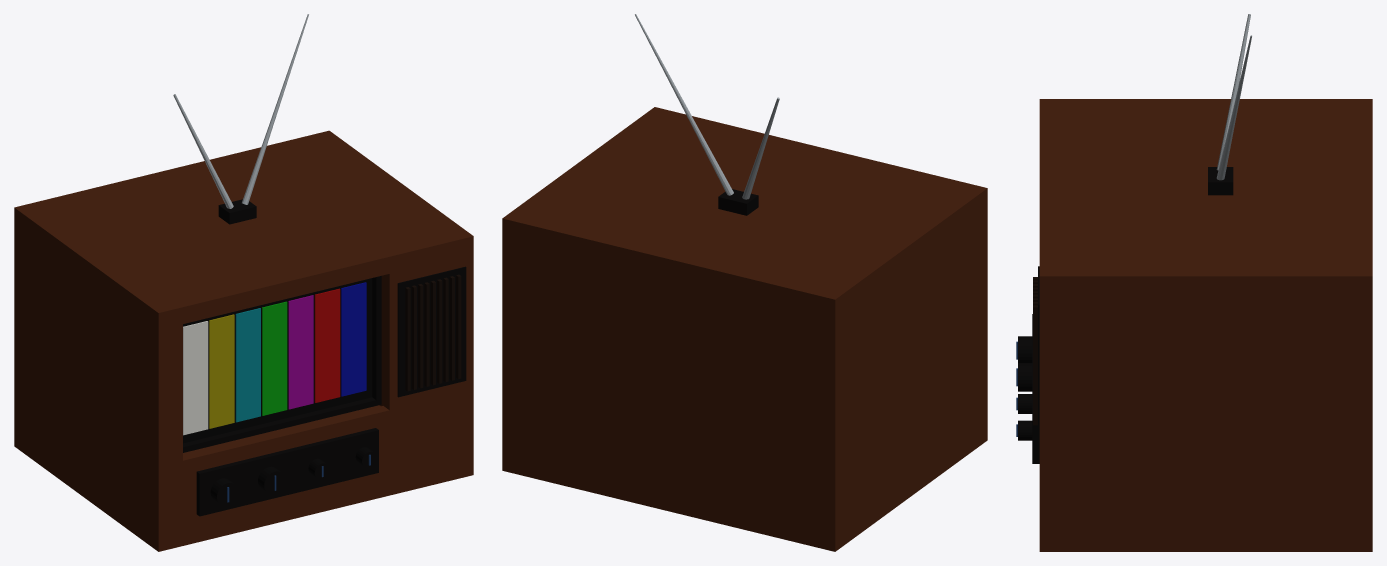
Rendered from CrtTelevision.obj.
3 renders of one model, left to right at view 1: azimuth 30°, elevation 25°; view 2: azimuth 150°, elevation 25°; view 3: azimuth 270°, elevation 25°, orthographic. The views are drawn at different scales.
Parts seen in each view (by area): view 1: CrtTelevision; view 2: CrtTelevision; view 3: CrtTelevision.
Part boxes in pixels (x1,y1,x2,y2): CrtTelevision: (14, 14, 473, 551); CrtTelevision: (502, 14, 987, 551); CrtTelevision: (1016, 14, 1372, 551).
Size of the model in its own units: 0.58 by 0.7242 by 0.492.
